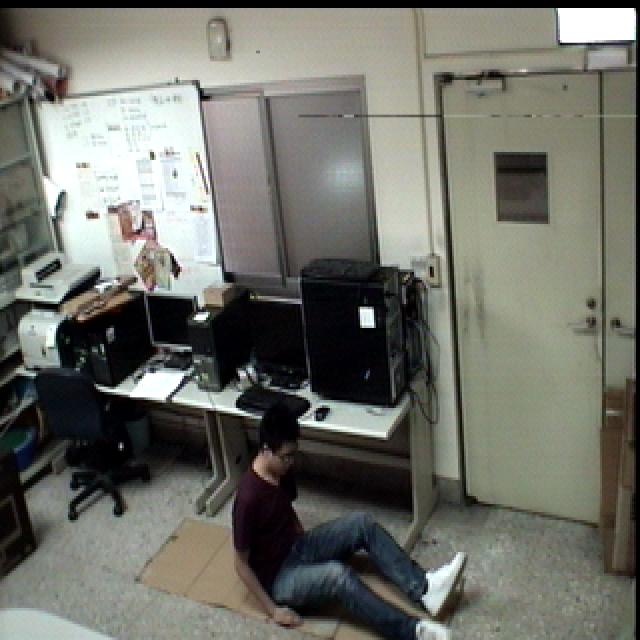sit: (225, 399, 478, 640)
